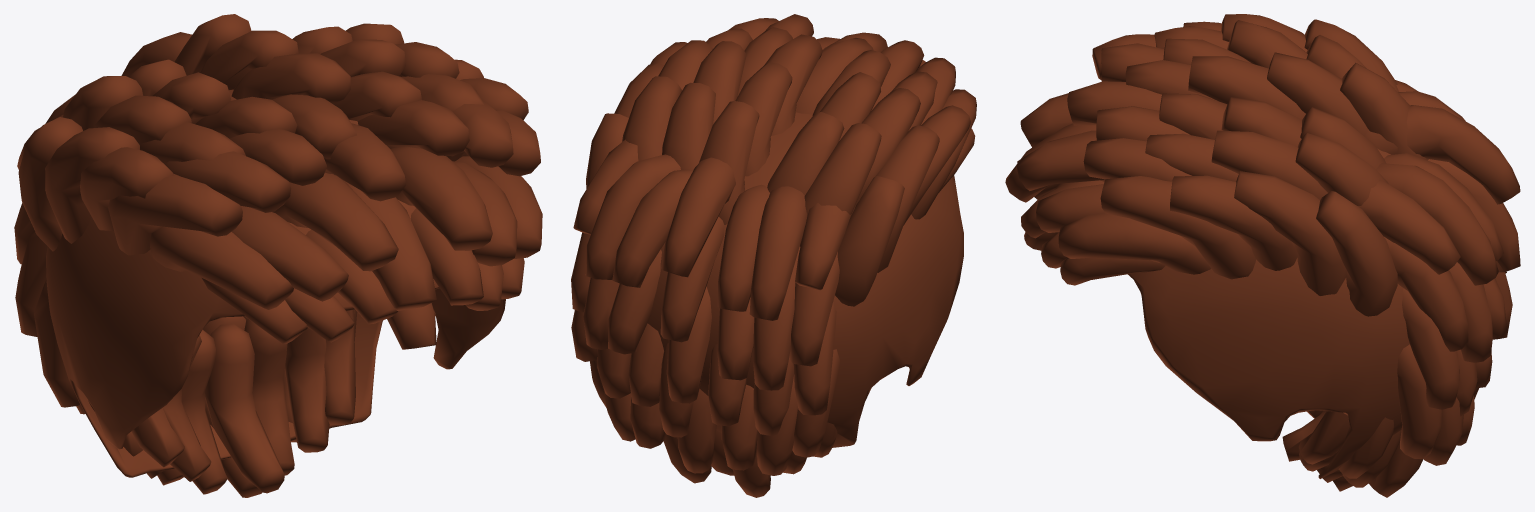
Rendered from hair-8-6c088c34.glb.
The picture shows the model from 3 angles, left to right: view 1: azimuth 30°, elevation 25°; view 2: azimuth 150°, elevation 25°; view 3: azimuth 270°, elevation 25°; orthographic projection. The views are drawn at different scales.
Parts seen in each view (by area): view 1: hair_8.001; view 2: hair_8.001; view 3: hair_8.001.
Part boxes in pixels (x1,y1,x2,y2): hair_8.001: [14, 14, 542, 497]; hair_8.001: [571, 14, 976, 497]; hair_8.001: [1005, 14, 1520, 497].
Bounding box in the file's own units: 1.68 × 2 × 2.18.
